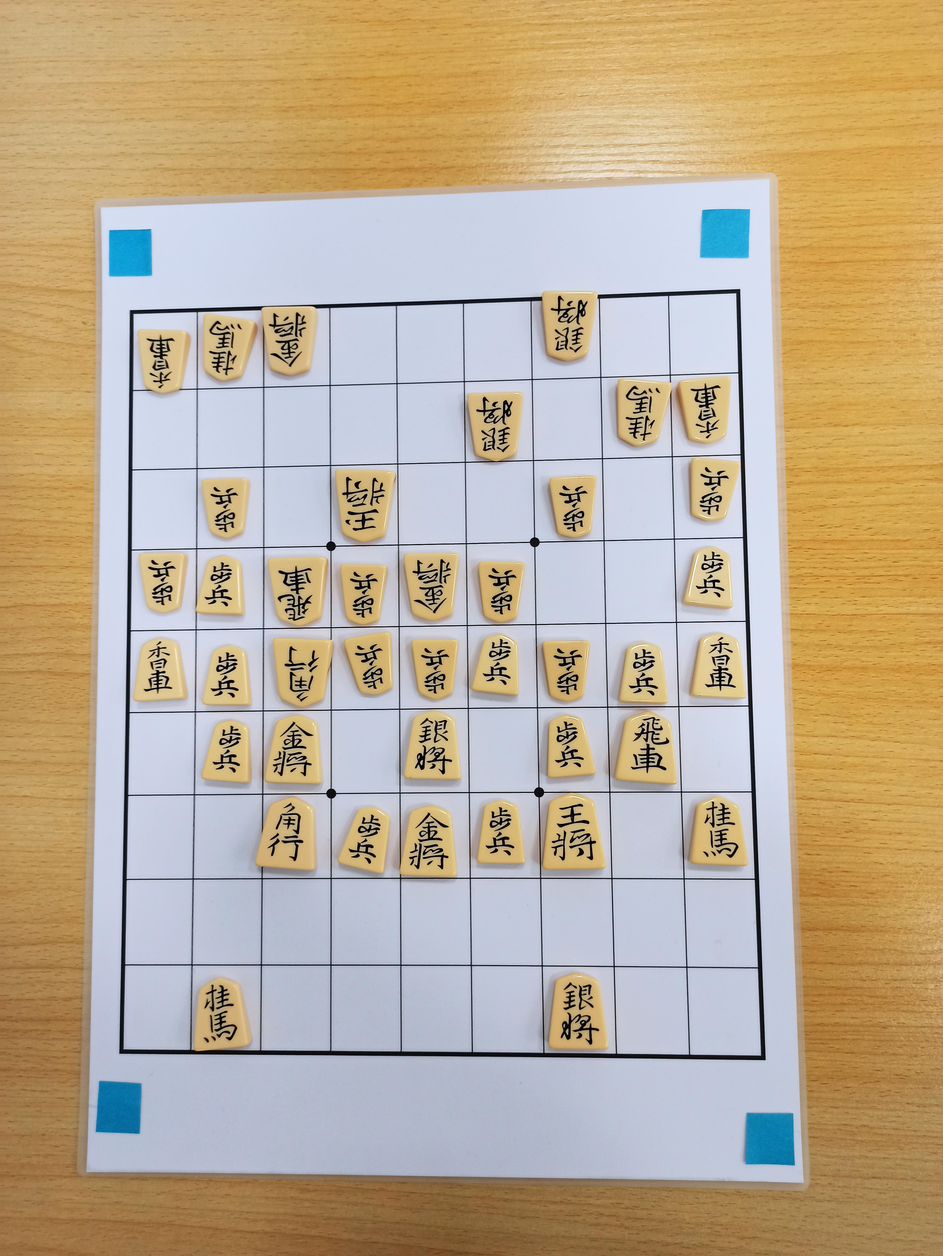board: (120, 290, 762, 1055)
